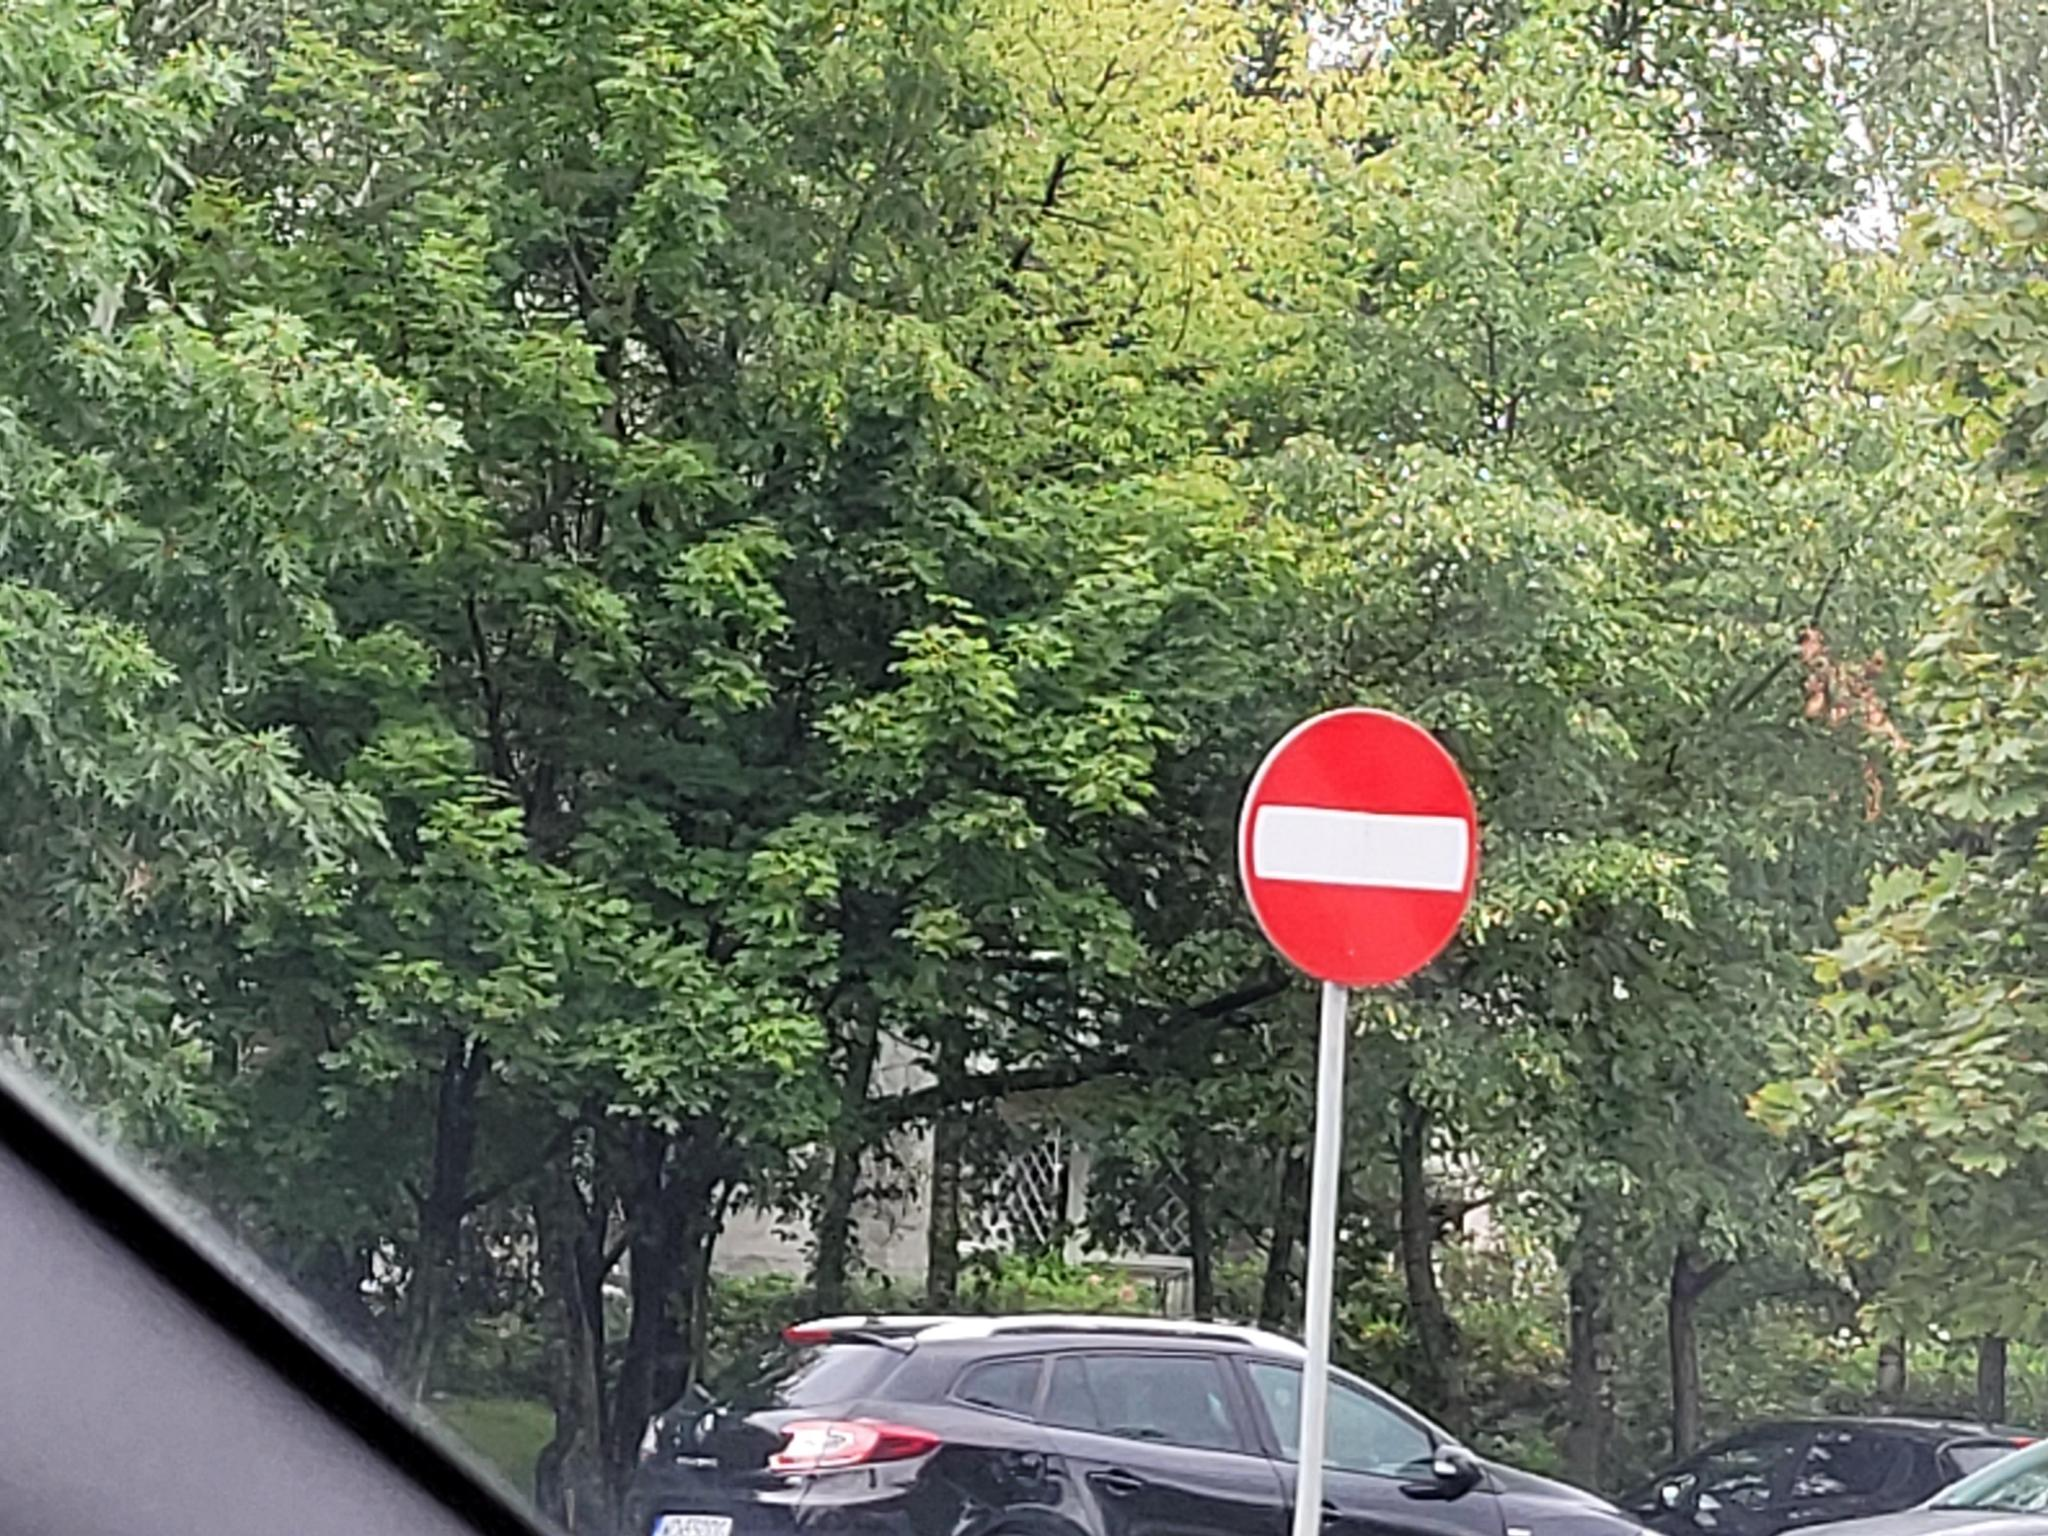prohibitory: (1238, 705, 1477, 994)
